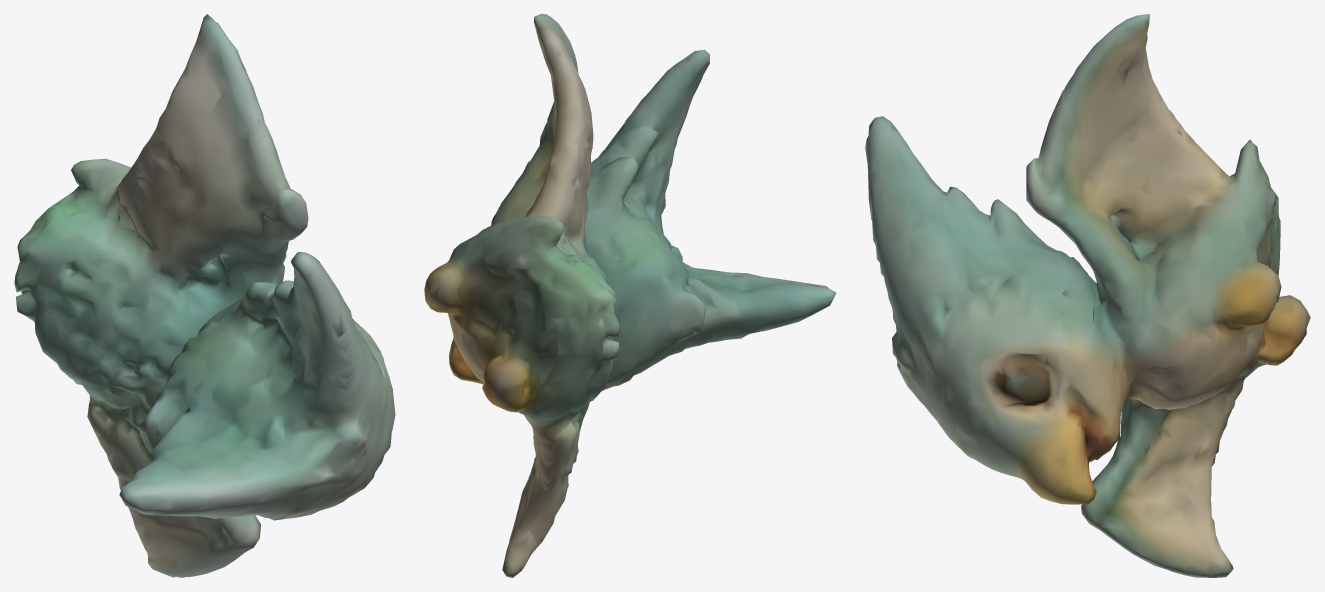
The model's file is pet_ptero.glb.
3 views of the same model, side by side, from view 1: azimuth 30°, elevation 25°; view 2: azimuth 150°, elevation 25°; view 3: azimuth 270°, elevation 25° (orthographic). The views are drawn at different scales.
Parts seen in each view (by area): view 1: geometry_0; view 2: geometry_0; view 3: geometry_0.
Part boxes in pixels (bbox=[...]): geometry_0: bbox=[14, 14, 395, 577]; geometry_0: bbox=[424, 14, 836, 577]; geometry_0: bbox=[865, 14, 1310, 577].
Size of the model in its own units: 0.6557 by 1.08 by 0.7697.
